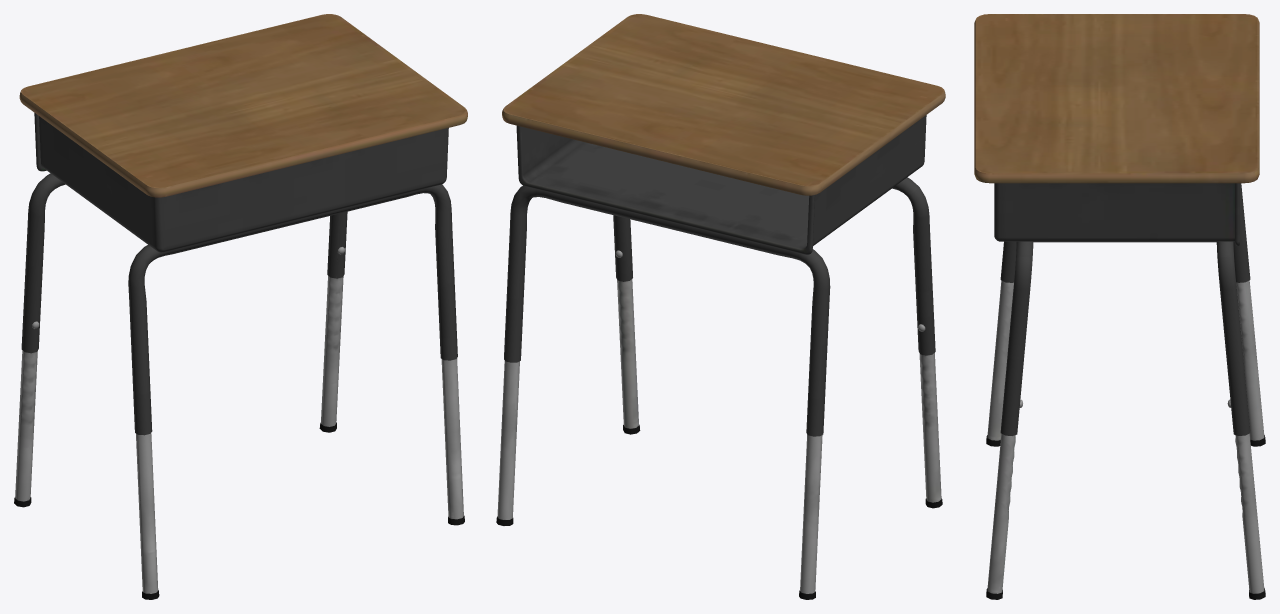
The model's file is schooldesk_01.glb.
3 views of the same model, side by side, from view 1: azimuth 30°, elevation 25°; view 2: azimuth 150°, elevation 25°; view 3: azimuth 270°, elevation 25° (orthographic). The views are drawn at different scales.
Parts seen in each view (by area): view 1: SchoolDesk_01; view 2: SchoolDesk_01; view 3: SchoolDesk_01.
Part boxes in pixels (x1,y1,x2,y2): SchoolDesk_01: [14, 14, 467, 599]; SchoolDesk_01: [496, 14, 945, 599]; SchoolDesk_01: [974, 14, 1265, 599].
Bounding box in the file's own units: 0.7117 × 0.8826 × 0.546.
1 material, 1 textured.
